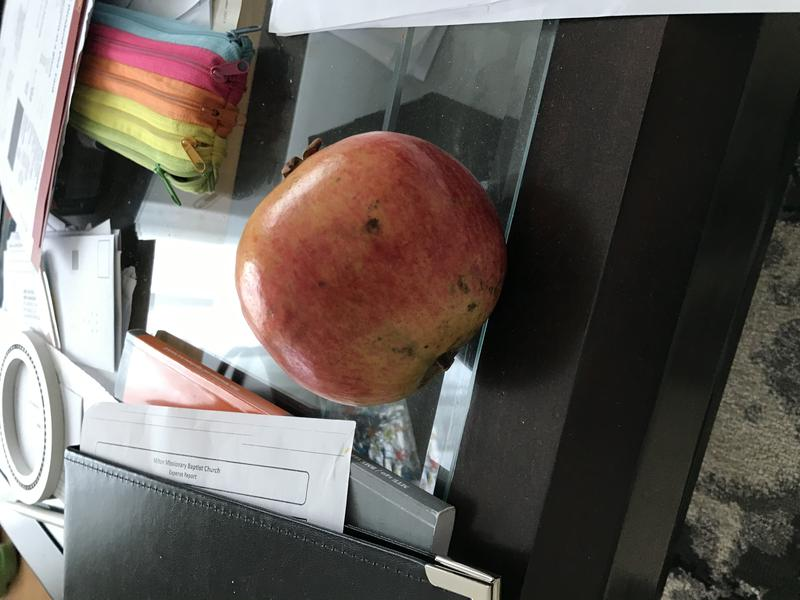pomegranate: (222, 122, 516, 415)
